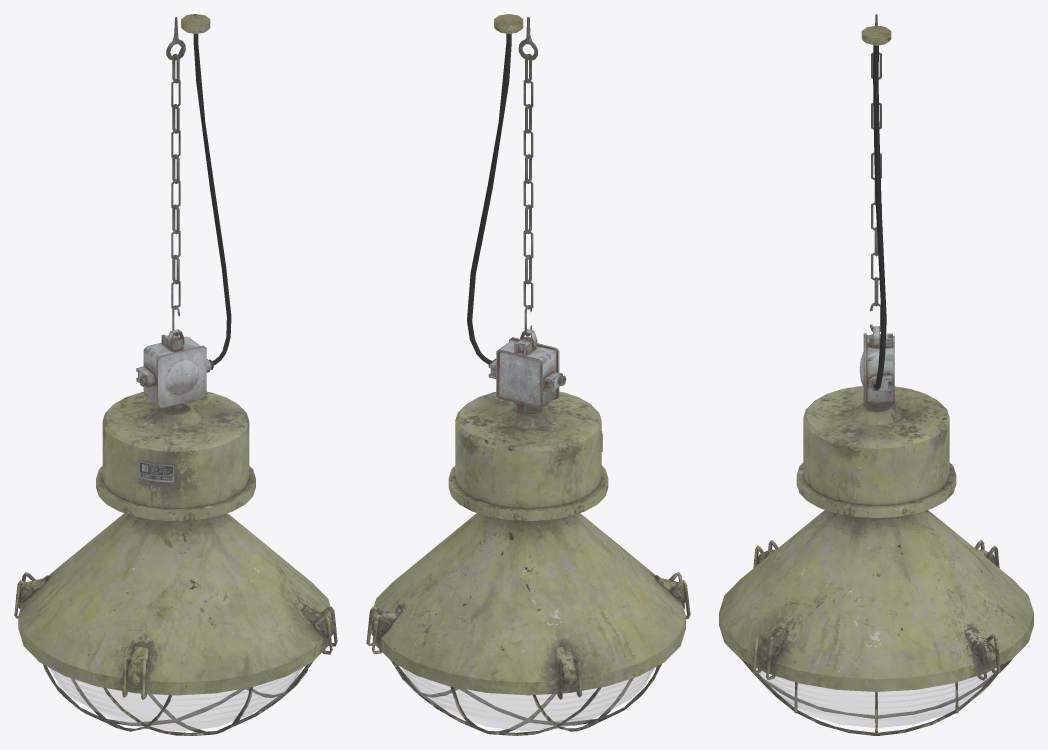
The model's file is hanging_industrial_lamp.glb.
The picture shows the model from 3 angles, left to right: view 1: azimuth 30°, elevation 25°; view 2: azimuth 150°, elevation 25°; view 3: azimuth 270°, elevation 25°; orthographic projection.
Visible parts, largest first — view 1: hanging_industrial_lamp; view 2: hanging_industrial_lamp; view 3: hanging_industrial_lamp.
Part boxes in pixels (left/top/right/bottom): hanging_industrial_lamp: left=14, top=14, right=337, bottom=735; hanging_industrial_lamp: left=366, top=14, right=690, bottom=735; hanging_industrial_lamp: left=719, top=14, right=1033, bottom=735.
Bounding box in the file's own units: 0.5496 × 1.36 × 0.5496.
Materials: 2 (1 with a texture image).
